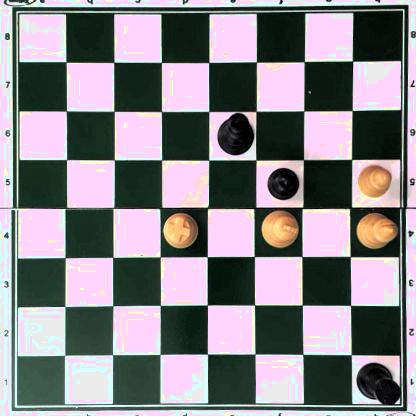black-king: (215, 113, 254, 155)
black-pawn: (267, 165, 299, 200)
black-rook: (354, 364, 400, 404)
white-bishop: (356, 211, 398, 249)
white-king: (260, 209, 300, 250)
white-pawn: (356, 164, 391, 197)
white-rook: (163, 212, 198, 248)
